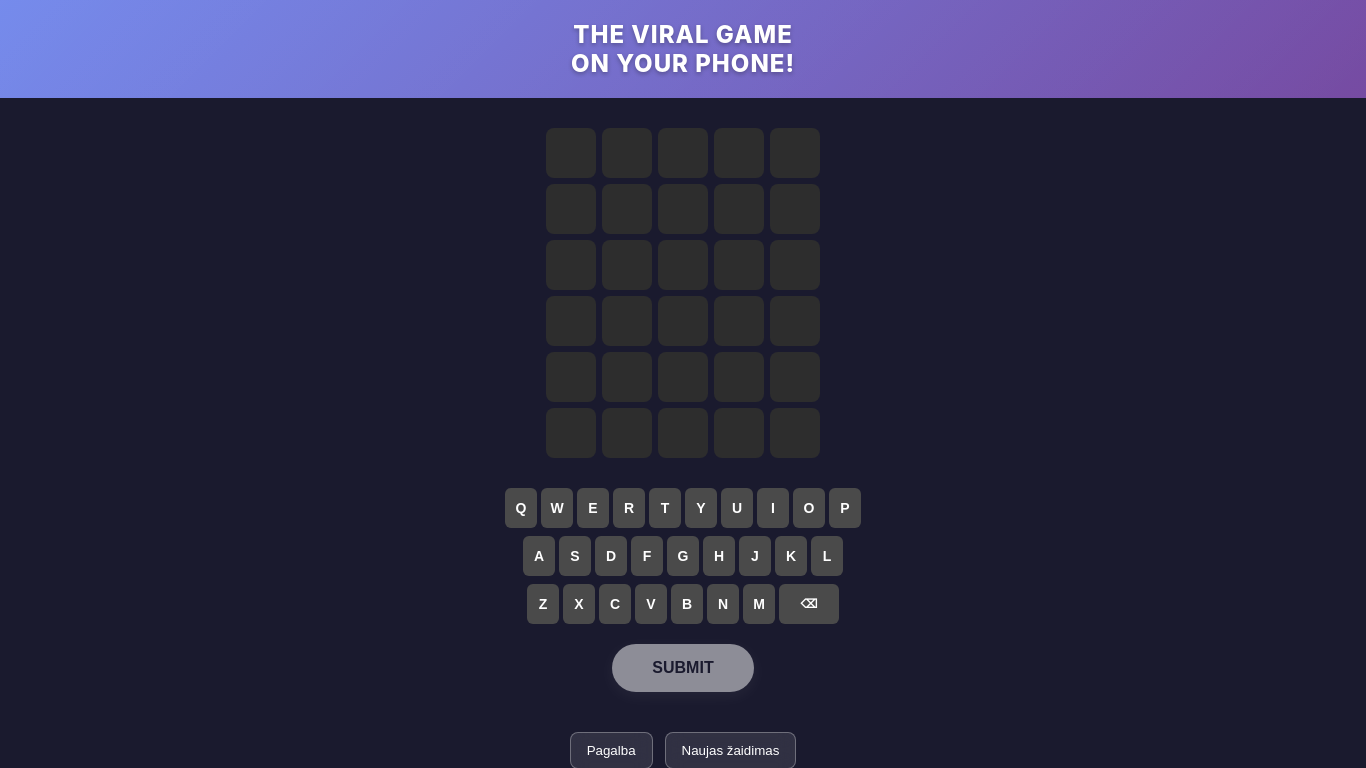
App accessibility basics › help button displays instructions
This screenshot has width=1366, height=768.
Click the button "Pagalba".
click(611, 750)  # box [570, 732, 652, 767]
(page scrolled)
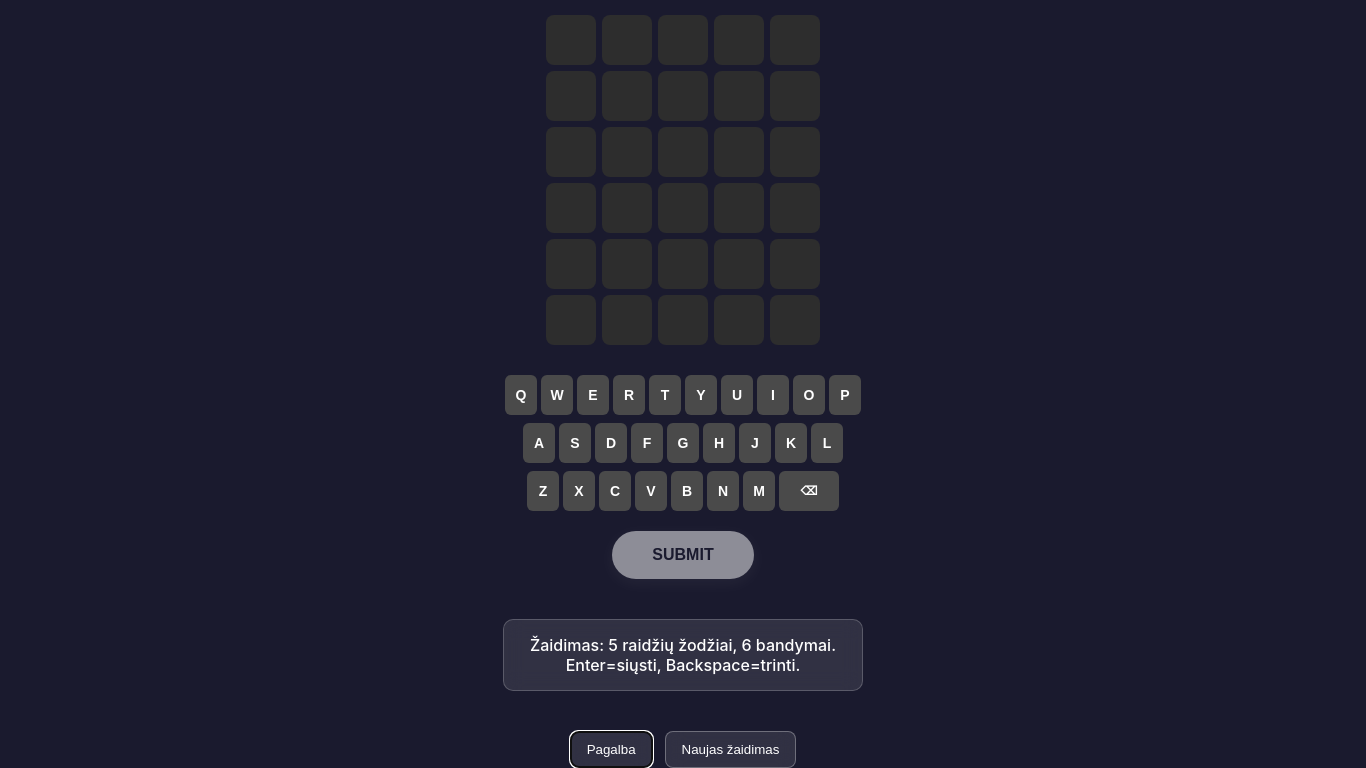
Now the text "Žaidimas: 5 raidžių žodžiai" is shown, box [530, 635, 836, 675]
